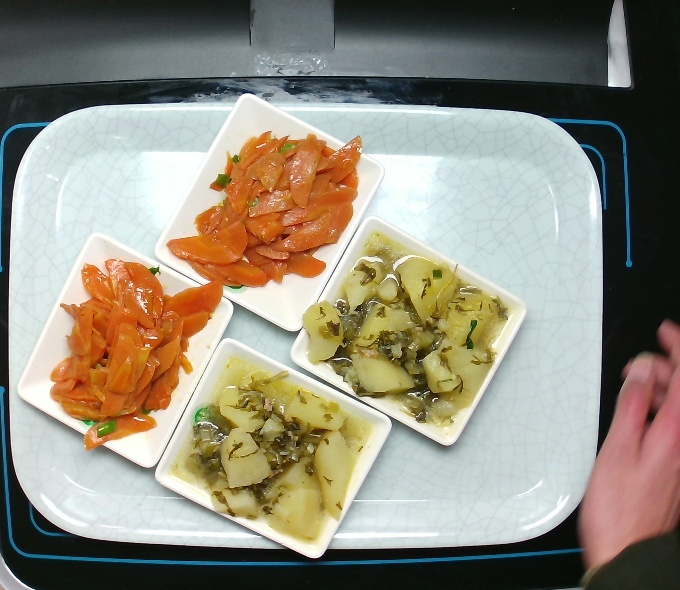wcq-HuLuoBo: (39, 254, 222, 448), (166, 122, 362, 289)
wcq-XueCaiTuDou: (164, 350, 370, 543), (307, 238, 513, 431)
